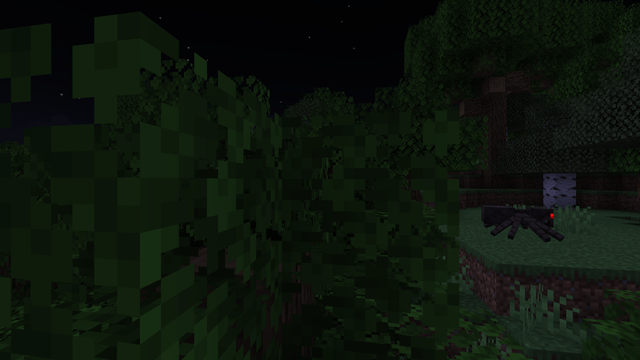araignees: (483, 202, 565, 241)
